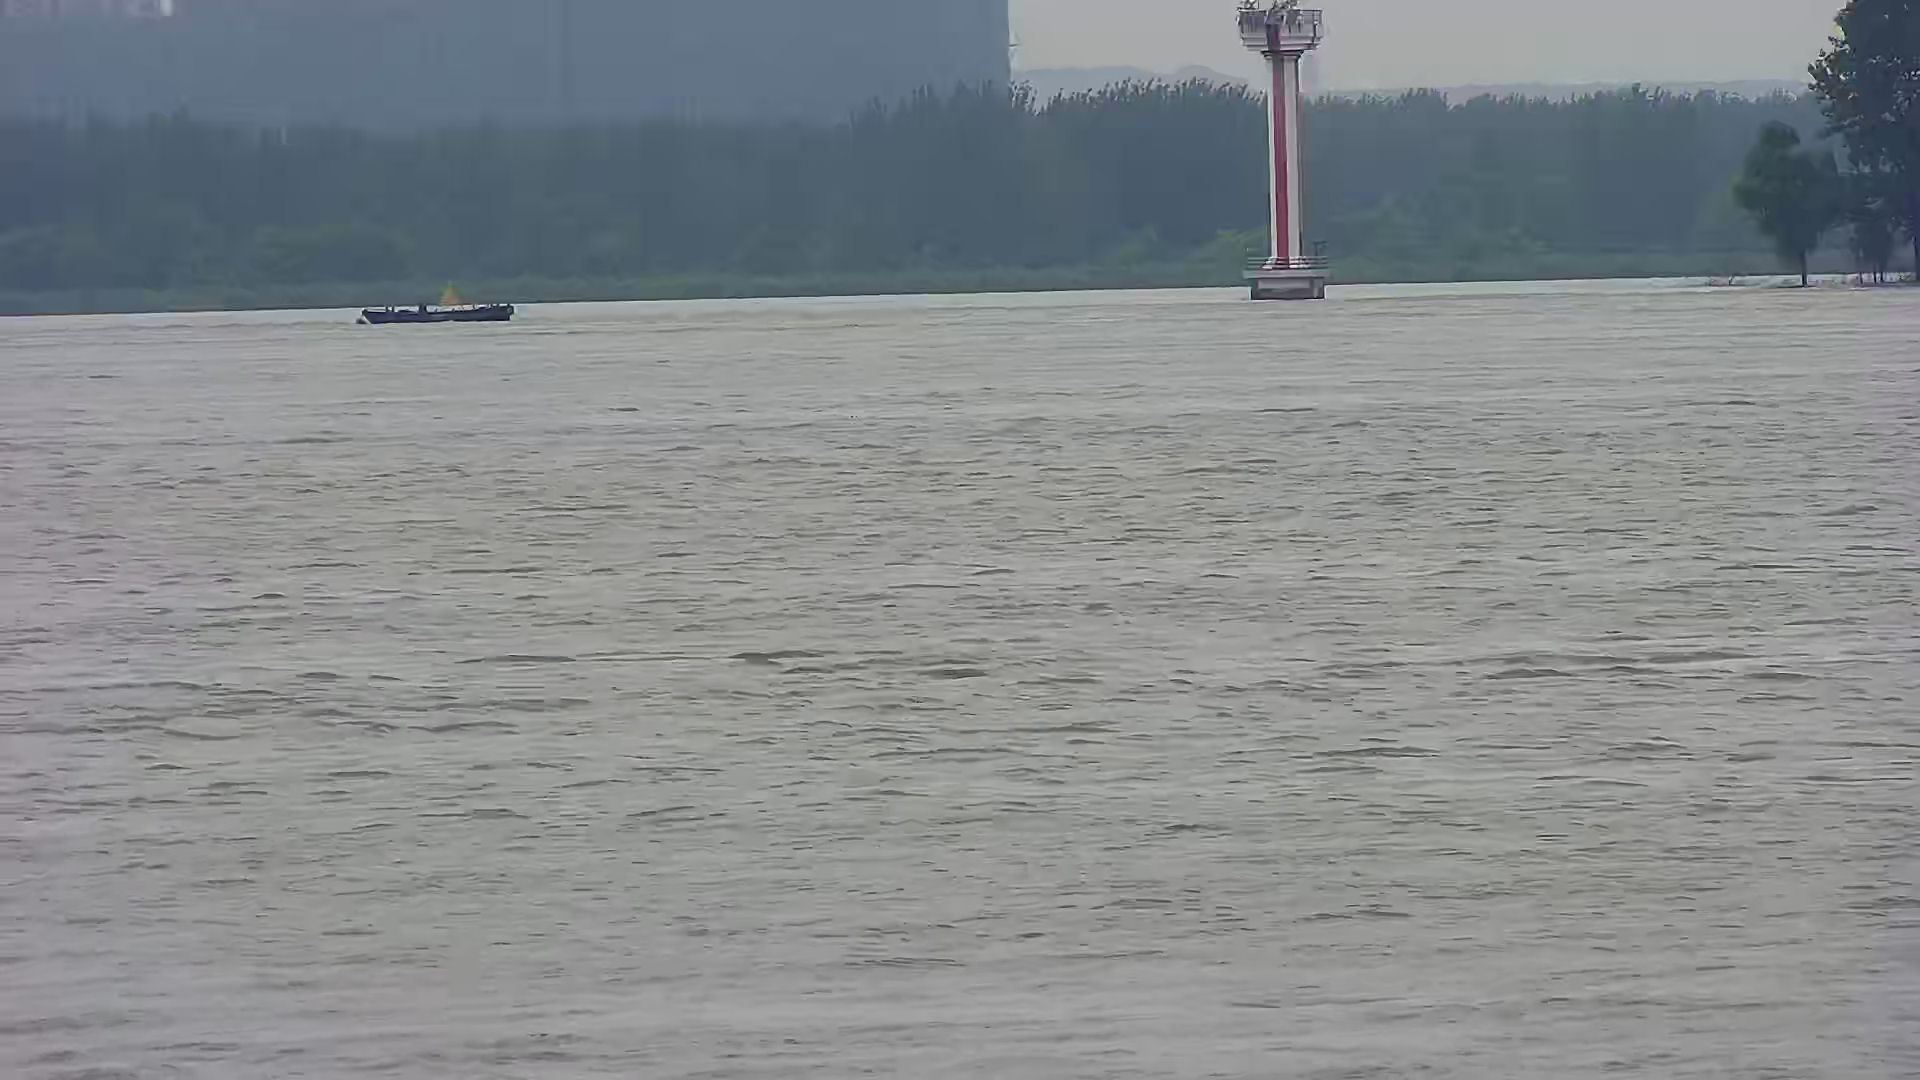boat: (360, 278, 514, 326)
platform: (1233, 7, 1328, 301)
tree: (1811, 1, 1920, 277), (1741, 127, 1840, 284)
